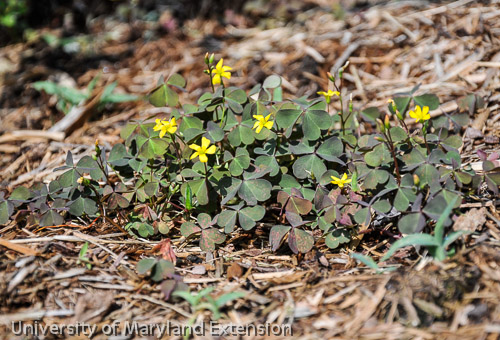oxalis: (126, 83, 468, 243)
